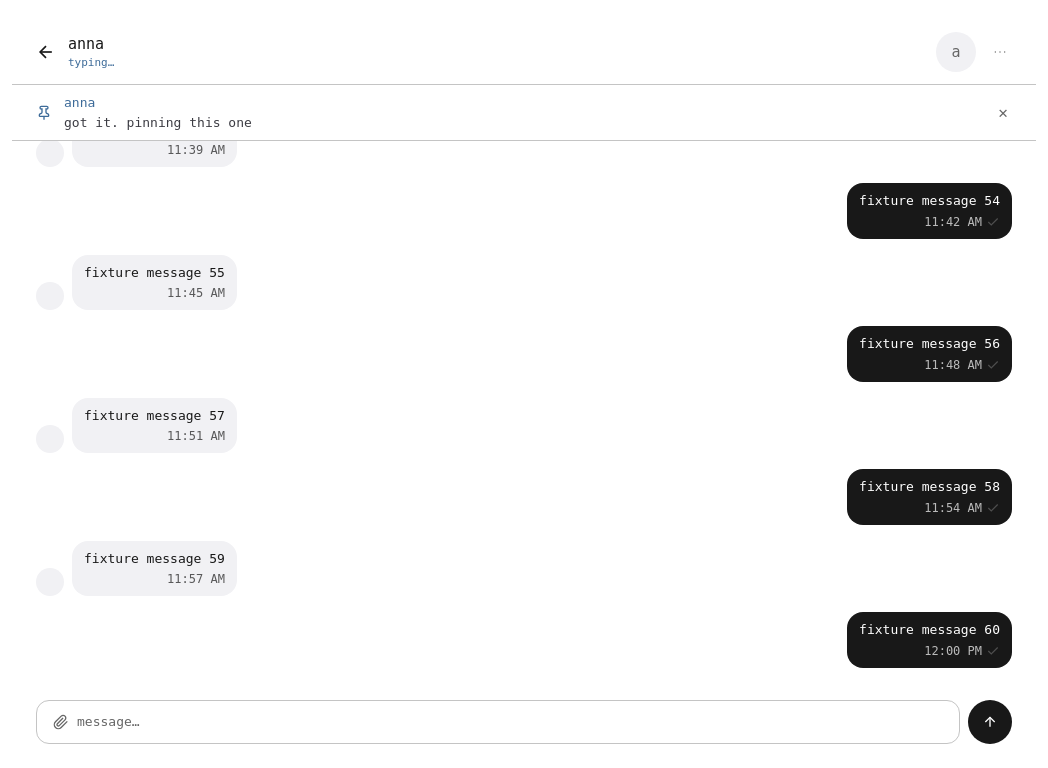
Scenario: S5 chat view › renders history and sends a message into the bubble flow
This screenshot has width=1048, height=768.
(page scrolled)
Expected: the element with test id "msg-scroll" shows "fixture message 60", 859,622 -> 1000,637
Expected: the button with test id "pinned-bar" is shown, 12,85 -> 1036,141
In the text box with test id "composer-input": (510, 722) 77,712 -> 943,732, type "hello from s5 test"
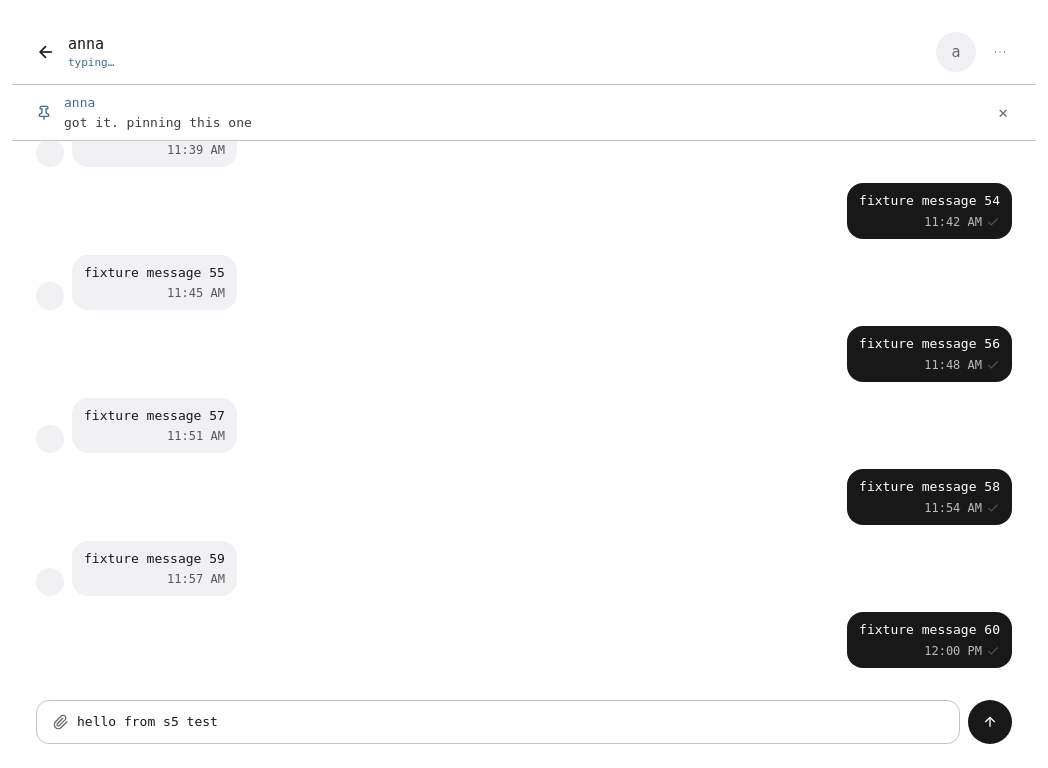
Click the button with test id "send": (990, 722) 968,700 -> 1012,744
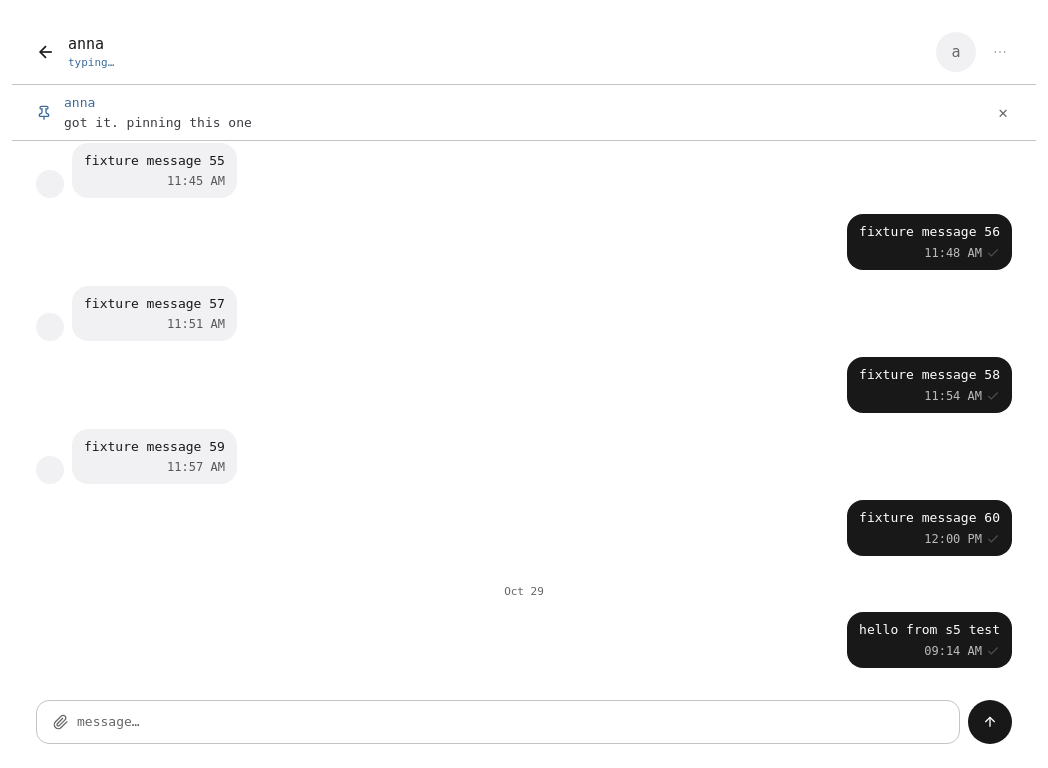
Expected: the text "hello from s5 test" is shown, 859,620 -> 1000,640
